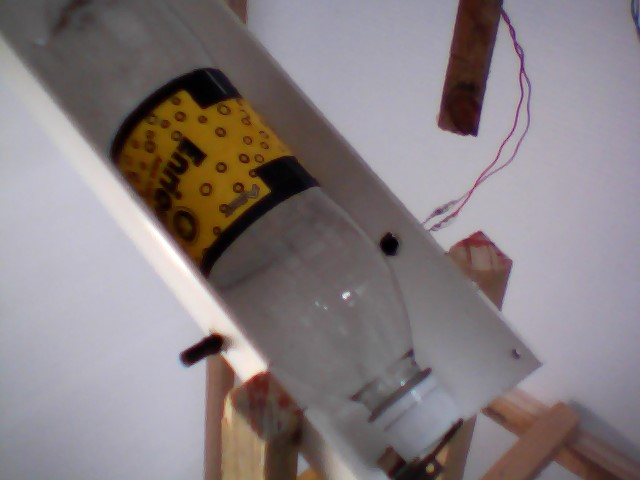plastico: (18, 1, 470, 467)
